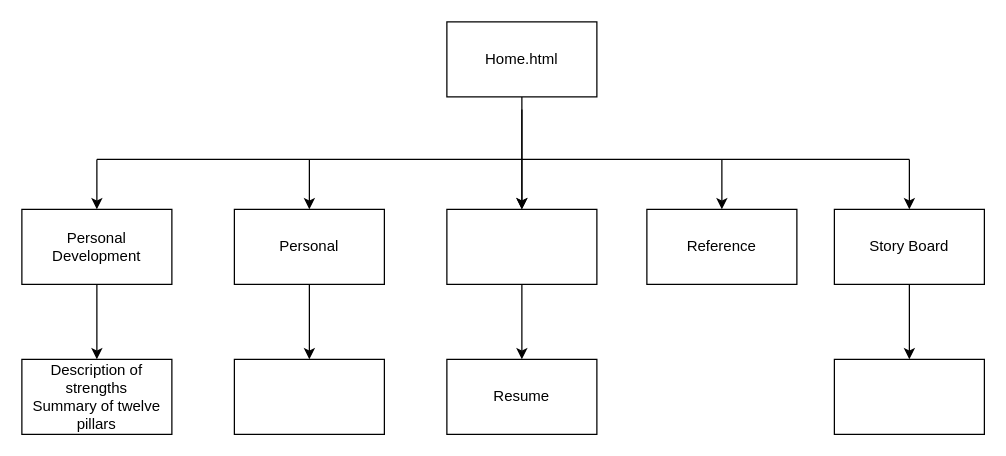
Some shapes in this 1006 by 456 pixel diagram are drawn without their labels. The shapes that lost their labels are listed below. From the top down, each one's centre as x and y in pixels, then its label:
At pixel 521 246: "Professional Development".
At pixel 308 396: "Quote Personilty Personality test Contact".
At pixel 908 396: "Targeted audience Story Board".
